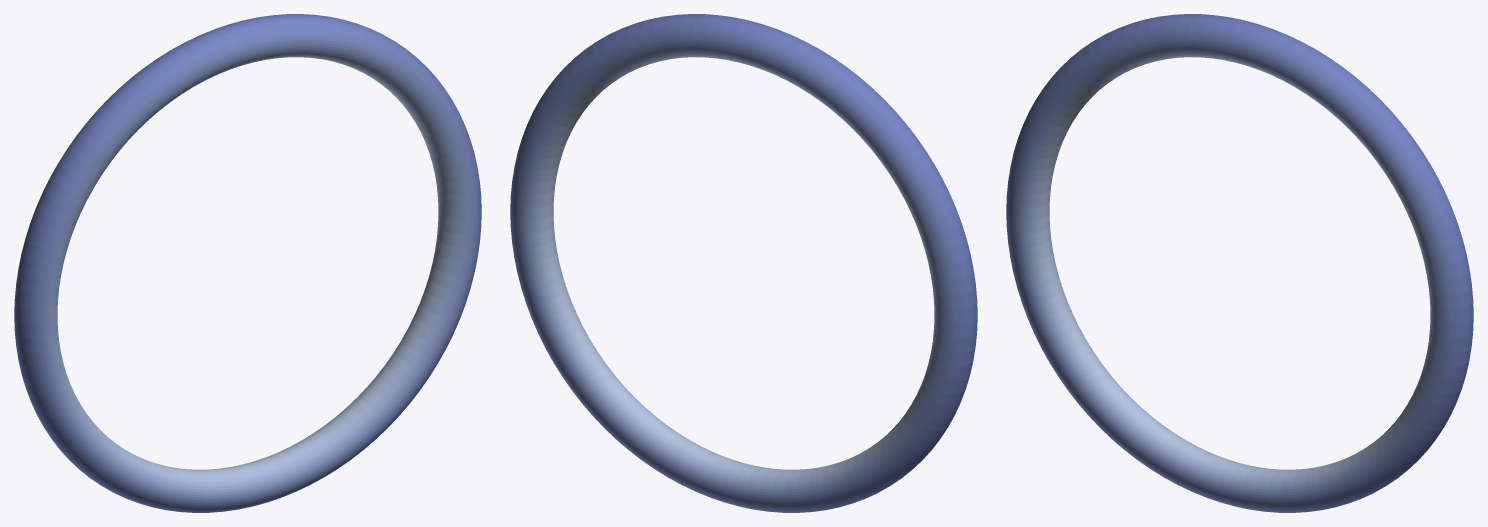
The picture shows the model from 3 angles, left to right: view 1: azimuth 30°, elevation 25°; view 2: azimuth 150°, elevation 25°; view 3: azimuth 330°, elevation 25°; orthographic projection.
Visible parts, largest first — view 1: world; view 2: world; view 3: world.
Part boxes in pixels (x1=…): world: x1=14, y1=14, x2=481, y2=512; world: x1=510, y1=14, x2=977, y2=512; world: x1=1006, y1=14, x2=1473, y2=512.
Size of the model in its own units: 31.2 by 31.2 by 2.53.
